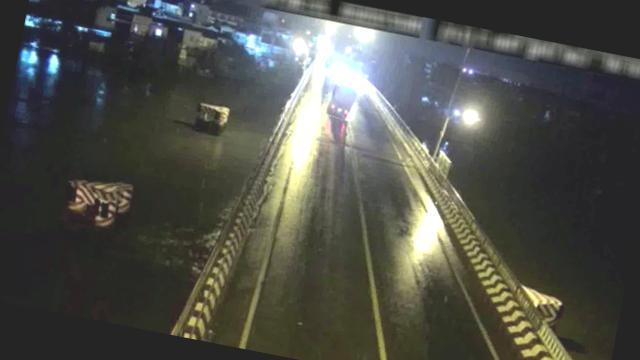Car: (322, 80, 361, 122)
